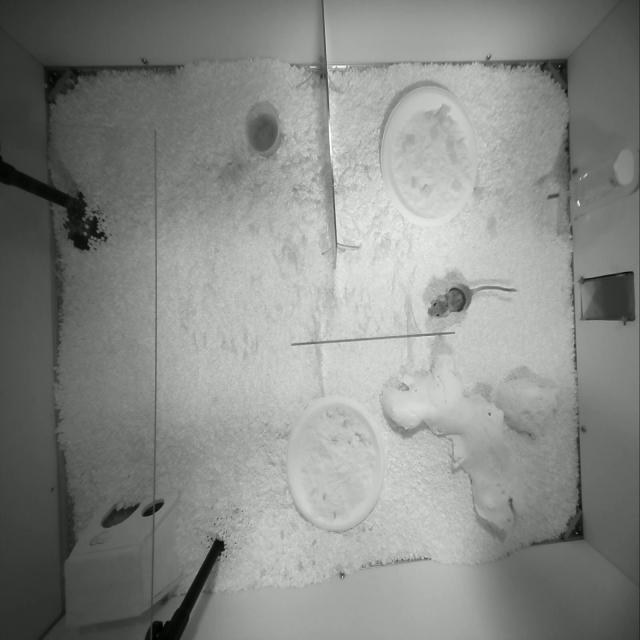adult_front: (428, 284, 517, 317)
